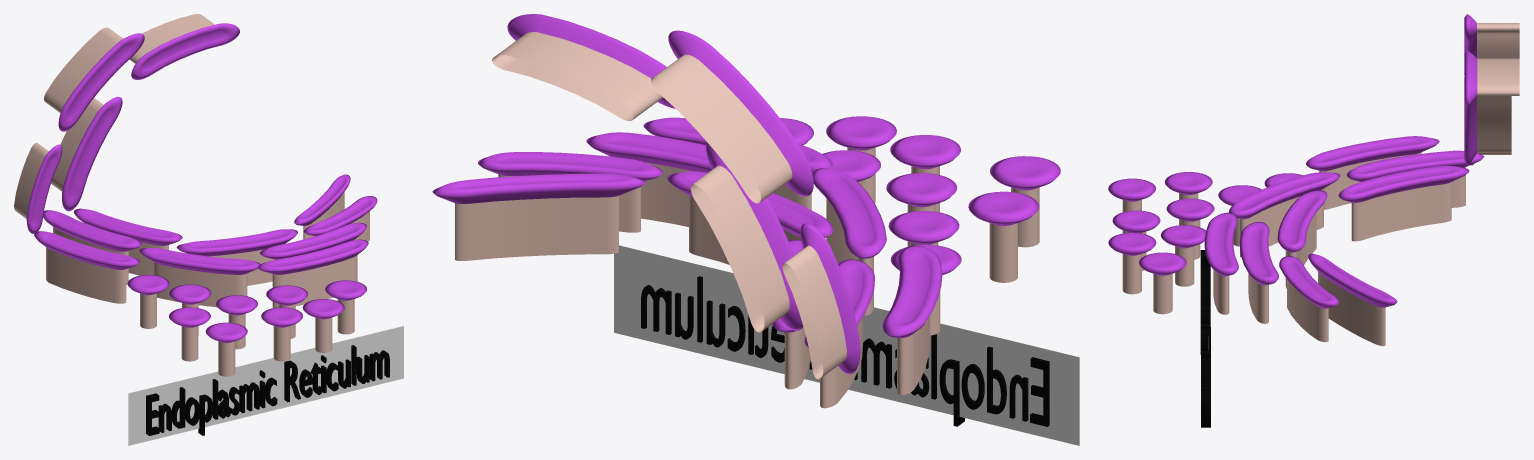
File: endoplasmic.gltf
3 renders of one model, left to right at view 1: azimuth 30°, elevation 25°; view 2: azimuth 150°, elevation 25°; view 3: azimuth 270°, elevation 25°, orthographic. The views are drawn at different scales.
Visible parts, largest first — view 1: Blue_Top, Base_Azules, Plane.005, Text.005; view 2: Base_Azules, Blue_Top, Plane.005, Text.005; view 3: Blue_Top, Base_Azules, Text.005.
Boxes of the visible parts, left/top/right/bottom form: Blue_Top: left=26, top=23, right=377, bottom=342; Base_Azules: left=14, top=14, right=369, bottom=376; Plane.005: left=128, top=326, right=403, bottom=445; Text.005: left=146, top=345, right=389, bottom=435; Base_Azules: left=455, top=32, right=1039, bottom=408; Blue_Top: left=432, top=14, right=1060, bottom=374; Plane.005: left=614, top=245, right=1079, bottom=445; Text.005: left=641, top=276, right=1049, bottom=426; Blue_Top: left=1108, top=14, right=1483, bottom=308; Base_Azules: left=1122, top=23, right=1519, bottom=346; Text.005: left=1200, top=250, right=1210, bottom=427.
Bounding box in the file's own units: 1.46 × 1.41 × 1.51.
